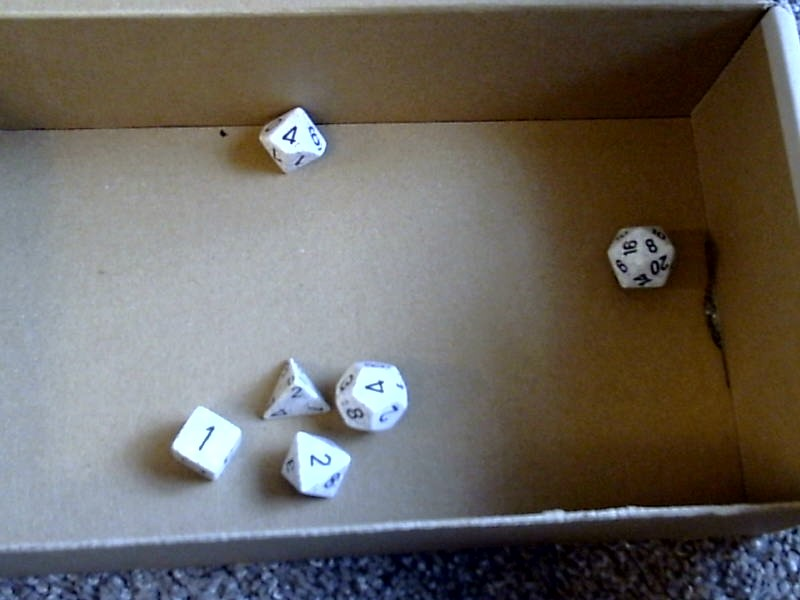d10 4: (256, 105, 329, 176)
d12 4: (334, 354, 412, 436)
d20 8: (601, 222, 680, 293)
d4 2: (253, 355, 331, 422)
d6 1: (162, 403, 245, 489)
d8 2: (268, 430, 351, 503)
